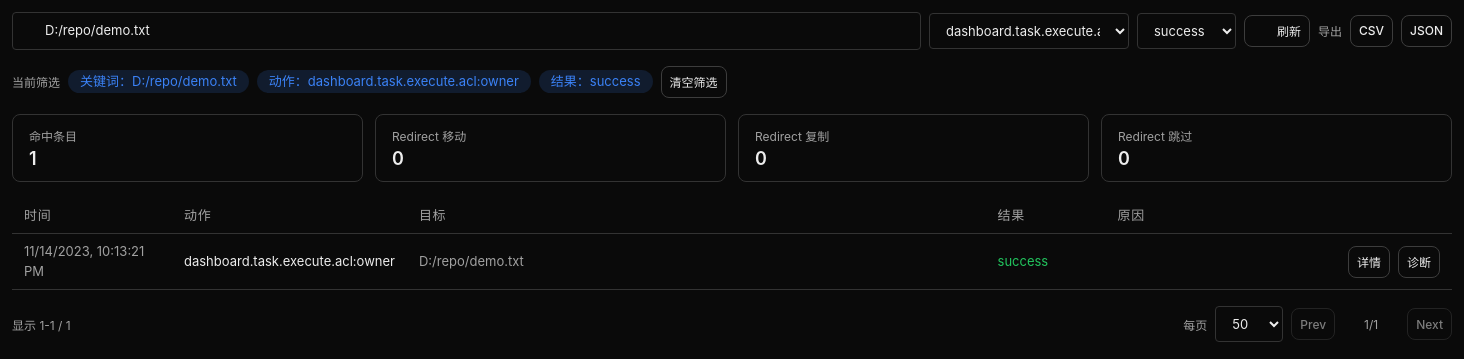
Test: AuditPanel › applies focus requests and reloads audit filters
Check: the field with test id "audit-search" holds "D:/repo/demo.txt", box [12,12,921,50]
Check: the dropdown with test id "audit-action" shows "dashboard.task.execute.acl:owner", box [929,13,1129,49]
Click the button with test id "clear-audit-filters": (694, 82) [660,66,726,98]
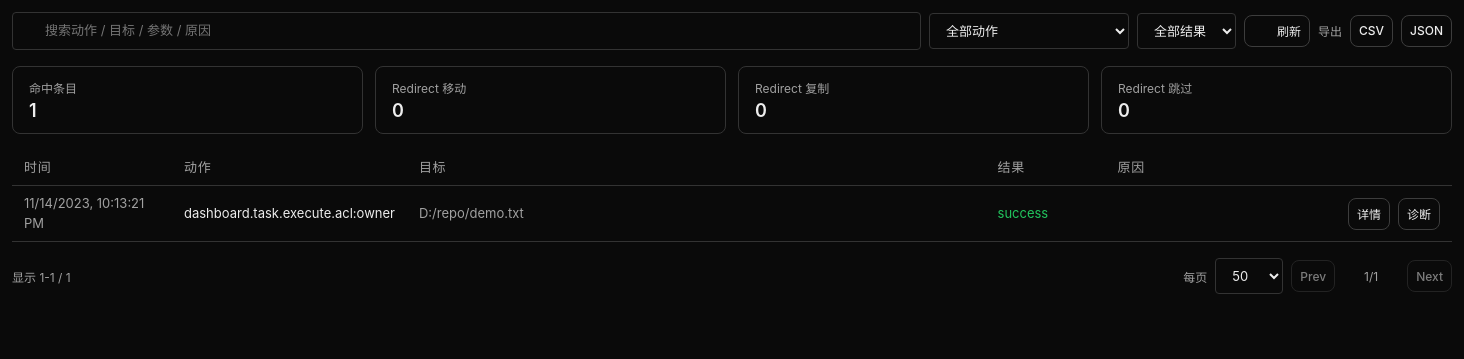
Check: the field with test id "audit-search" is empty, box [12,12,921,50]
Check: the dropdown with test id "audit-action" shows "全部动作", box [929,13,1129,49]
Check: the dropdown with test id "audit-result" shows "全部结果", box [1137,13,1236,49]
